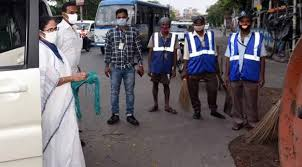mask: (39, 15, 59, 45), (61, 0, 77, 24), (237, 11, 251, 32), (114, 7, 129, 26), (191, 16, 205, 32), (159, 16, 171, 34)
